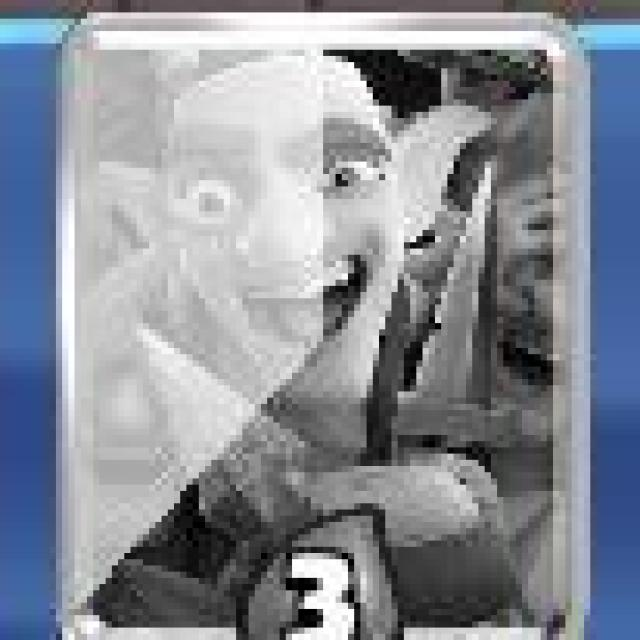Goblin_Gang: (61, 13, 590, 640)
